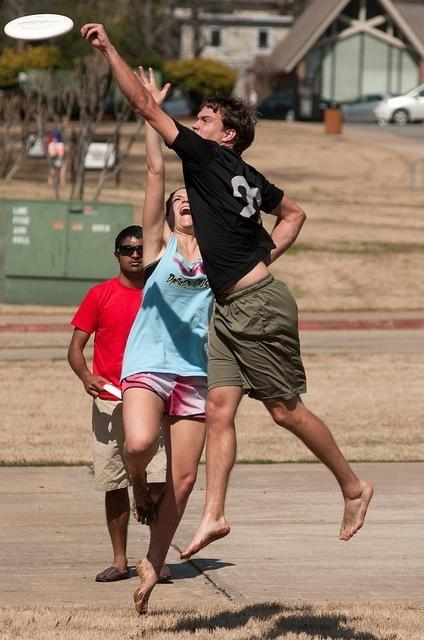car: (375, 83, 424, 126), (340, 92, 392, 122), (255, 93, 296, 119)
